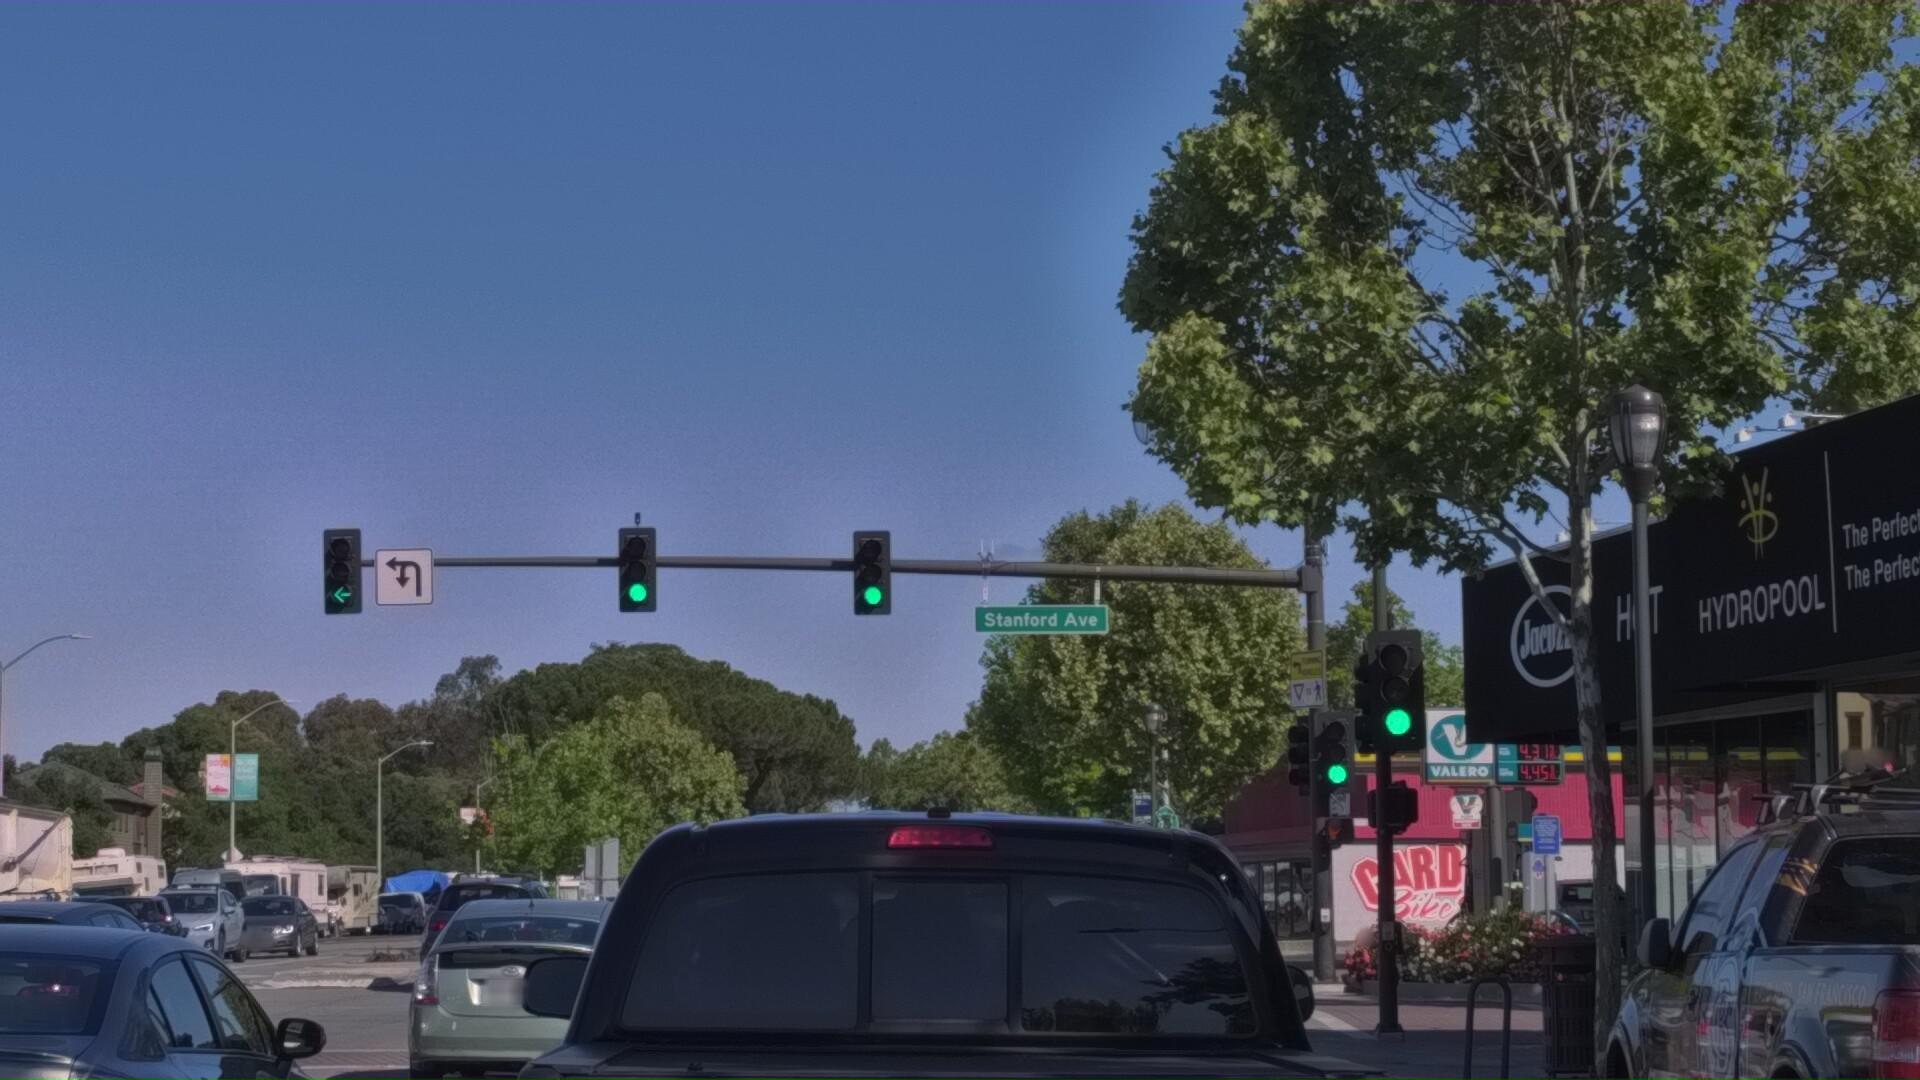car: (381, 762, 1485, 1080), (1534, 733, 1920, 1080), (0, 927, 400, 1080), (380, 975, 675, 1080), (831, 975, 1117, 1080), (0, 988, 237, 1080), (405, 972, 566, 1080), (618, 1002, 779, 1080), (135, 957, 266, 1051), (223, 971, 342, 1044), (0, 934, 25, 1080)
truck: (0, 840, 100, 1080)
